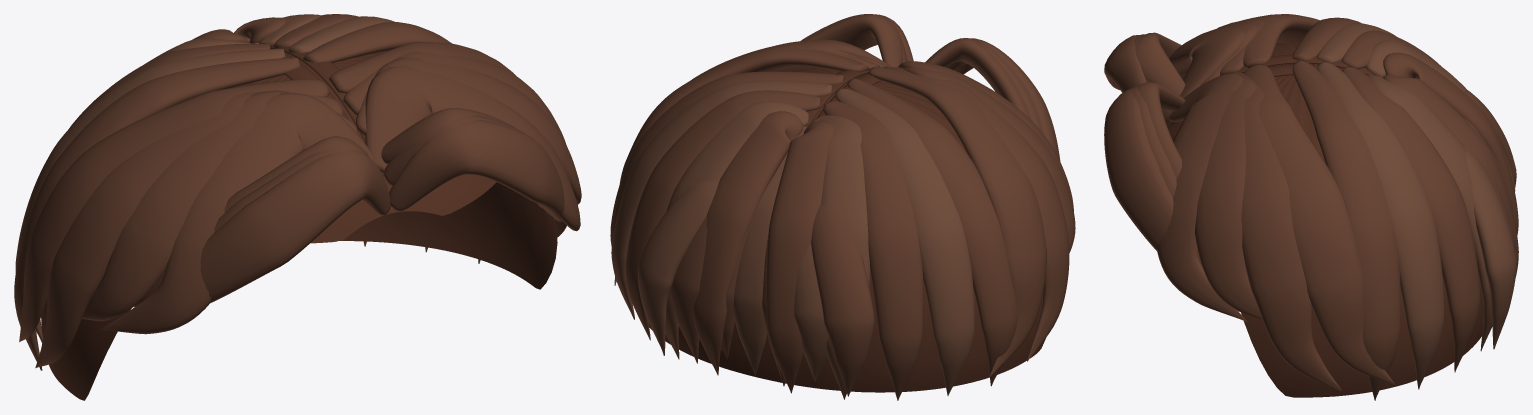
The model's file is Masculine-middle-part-hair251.glb.
3 views of the same model, side by side, from view 1: azimuth 30°, elevation 25°; view 2: azimuth 150°, elevation 25°; view 3: azimuth 270°, elevation 25° (orthographic). The views are drawn at different scales.
Parts seen in each view (by area): view 1: 226 hair / Hair / chestnut226.001, 226 hair / Hair / recessed roots251, 226 hair / Hair / main251, 226 hair / Hair / accent251, 226 hair / Hair / recessed roots251.001; view 2: 226 hair / Hair / main251, 226 hair / Hair / accent251, 226 hair / Hair / chestnut226.001, 226 hair / Hair / recessed roots251, 226 hair / Hair / recessed roots251.001; view 3: 226 hair / Hair / chestnut226.001, 226 hair / Hair / main251, 226 hair / Hair / accent251, 226 hair / Hair / recessed roots251, 226 hair / Hair / recessed roots251.001.
Part boxes in pixels (x1,y1,x2,y2): 226 hair / Hair / chestnut226.001: [19, 42, 581, 368]; 226 hair / Hair / recessed roots251: [41, 51, 557, 400]; 226 hair / Hair / main251: [14, 14, 480, 370]; 226 hair / Hair / accent251: [15, 14, 427, 343]; 226 hair / Hair / recessed roots251.001: [270, 45, 384, 176]; 226 hair / Hair / main251: [610, 71, 1017, 400]; 226 hair / Hair / accent251: [611, 80, 974, 399]; 226 hair / Hair / chestnut226.001: [614, 14, 1075, 377]; 226 hair / Hair / recessed roots251: [648, 68, 1045, 392]; 226 hair / Hair / recessed roots251.001: [806, 69, 880, 126]; 226 hair / Hair / chestnut226.001: [1104, 14, 1395, 391]; 226 hair / Hair / main251: [1292, 17, 1518, 400]; 226 hair / Hair / accent251: [1317, 23, 1516, 389]; 226 hair / Hair / recessed roots251: [1166, 42, 1483, 397]; 226 hair / Hair / recessed roots251.001: [1171, 54, 1373, 125].
Bounding box in the file's own units: 1.07 × 0.5895 × 0.8758.
